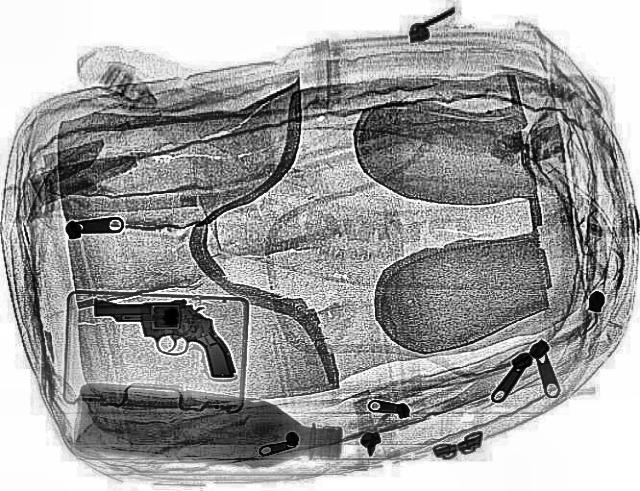Gun: (90, 296, 234, 378)
